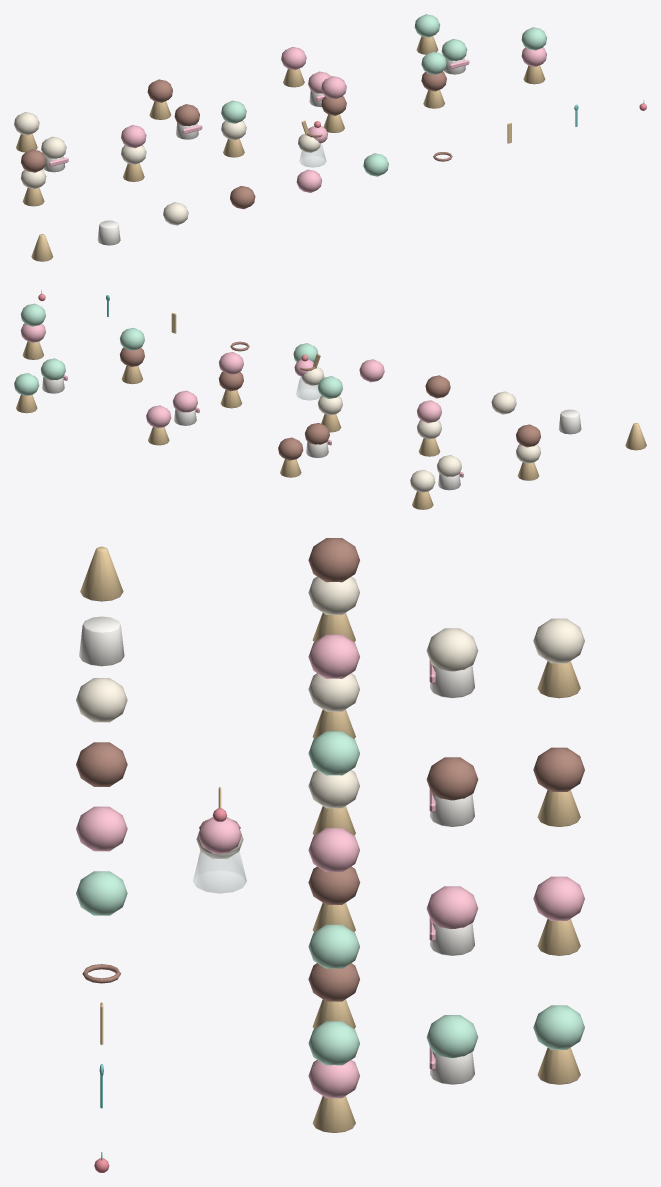
Rendered from products_all.glb.
The picture shows the model from 3 angles, top to bottom: view 1: azimuth 30°, elevation 25°; view 2: azimuth 150°, elevation 25°; view 3: azimuth 270°, elevation 25°; orthographic projection. The views are drawn at different scales.
Parts seen in each view (by area): view 1: Piece_Cup_Mesh, Piece_Scoop_Mint_Mesh, Product_Chocolate_Strawberry_Cone_Scoop_2_Strawberry, Product_Mint_Cone_Scoop_1_Mint, Piece_Scoop_Chocolate_Mesh, Piece_Scoop_Strawberry_Mesh, Product_Chocolate_Mint_Cone_Scoop_2_Mint, Product_Vanilla_Chocolate_Cone_Scoop_2_Chocolate, Product_Vanilla_Mint_Cone_Scoop_2_Mint, Product_Vanilla_Cone_Scoop_1_Vanilla, Product_Vanilla_Strawberry_Cone_Scoop_2_Strawberry, Piece_Scoop_Vanilla_Mesh (+14 smaller); view 2: Piece_Cup_Mesh, Piece_Scoop_Vanilla_Mesh, Piece_Scoop_Chocolate_Mesh, Product_Mint_Cone_Scoop_1_Mint, Piece_Scoop_Strawberry_Mesh, Product_Chocolate_Cone_Scoop_1_Chocolate, Product_Chocolate_Mint_Cone_Scoop_2_Mint, Product_Strawberry_Cone_Scoop_1_Strawberry, Product_Strawberry_Mint_Cone_Scoop_2_Mint, Product_Vanilla_Cone_Scoop_1_Vanilla, Product_Vanilla_Mint_Cone_Scoop_2_Mint, Product_Vanilla_Strawberry_Cone_Scoop_2_Strawberry (+15 smaller); view 3: Piece_Cup_Mesh, Sundae_Cup, Piece_Scoop_Strawberry_Mesh, Product_Vanilla_Cone_Scoop_1_Vanilla, Piece_Scoop_Mint_Mesh, Piece_Scoop_Chocolate_Mesh, Piece_Scoop_Vanilla_Mesh, Product_Chocolate_Mint_Cone_Scoop_2_Mint, Product_Mint_Cone_Scoop_1_Mint, Product_Vanilla_Mint_Cone_Scoop_2_Mint, Product_Chocolate_Cone_Scoop_1_Chocolate, Product_Strawberry_Cone_Scoop_1_Strawberry (+25 smaller).
Boxes of the visible parts, bbox=[...] form: Piece_Cup_Mesh: bbox=[97, 220, 120, 245]; Piece_Scoop_Mint_Mesh: bbox=[363, 153, 388, 176]; Product_Chocolate_Strawberry_Cone_Scoop_2_Strawberry: bbox=[321, 76, 346, 99]; Product_Mint_Cone_Scoop_1_Mint: bbox=[414, 14, 439, 37]; Piece_Scoop_Chocolate_Mesh: bbox=[230, 186, 255, 209]; Piece_Scoop_Strawberry_Mesh: bbox=[296, 169, 321, 192]; Product_Chocolate_Mint_Cone_Scoop_2_Mint: bbox=[421, 51, 446, 74]; Product_Vanilla_Chocolate_Cone_Scoop_2_Chocolate: bbox=[21, 149, 46, 172]; Product_Vanilla_Mint_Cone_Scoop_2_Mint: bbox=[221, 100, 246, 123]; Product_Vanilla_Cone_Scoop_1_Vanilla: bbox=[14, 112, 39, 135]; Product_Vanilla_Strawberry_Cone_Scoop_2_Strawberry: bbox=[121, 125, 146, 148]; Piece_Scoop_Vanilla_Mesh: bbox=[163, 202, 188, 225]; Piece_Cup_Mesh: bbox=[558, 409, 581, 434]; Piece_Scoop_Vanilla_Mesh: bbox=[491, 391, 516, 414]; Piece_Scoop_Chocolate_Mesh: bbox=[425, 375, 450, 398]; Product_Mint_Cone_Scoop_1_Mint: bbox=[14, 373, 39, 396]; Piece_Scoop_Strawberry_Mesh: bbox=[359, 359, 384, 382]; Product_Chocolate_Cone_Scoop_1_Chocolate: bbox=[278, 437, 303, 460]; Product_Chocolate_Mint_Cone_Scoop_2_Mint: bbox=[119, 327, 144, 350]; Product_Strawberry_Cone_Scoop_1_Strawberry: bbox=[146, 405, 171, 428]; Product_Strawberry_Mint_Cone_Scoop_2_Mint: bbox=[20, 303, 45, 326]; Product_Vanilla_Cone_Scoop_1_Vanilla: bbox=[410, 470, 435, 492]; Product_Vanilla_Mint_Cone_Scoop_2_Mint: bbox=[317, 376, 342, 398]; Product_Vanilla_Strawberry_Cone_Scoop_2_Strawberry: bbox=[417, 400, 441, 423]; Piece_Cup_Mesh: bbox=[79, 616, 124, 666]; Sundae_Cup: bbox=[193, 850, 246, 893]; Piece_Scoop_Strawberry_Mesh: bbox=[76, 806, 127, 851]; Product_Vanilla_Cone_Scoop_1_Vanilla: bbox=[533, 618, 584, 663]; Piece_Scoop_Mint_Mesh: bbox=[76, 871, 127, 915]; Piece_Scoop_Chocolate_Mesh: bbox=[76, 742, 127, 786]; Piece_Scoop_Vanilla_Mesh: bbox=[76, 678, 127, 722]; Product_Chocolate_Mint_Cone_Scoop_2_Mint: bbox=[308, 924, 359, 968]; Product_Mint_Cone_Scoop_1_Mint: bbox=[533, 1005, 584, 1049]; Product_Vanilla_Mint_Cone_Scoop_2_Mint: bbox=[308, 731, 359, 775]; Product_Chocolate_Cone_Scoop_1_Chocolate: bbox=[533, 747, 584, 791]; Product_Strawberry_Cone_Scoop_1_Strawberry: bbox=[533, 876, 584, 920].
Bounding box in the file's own units: 18.38 × 1.47 × 6.68.
